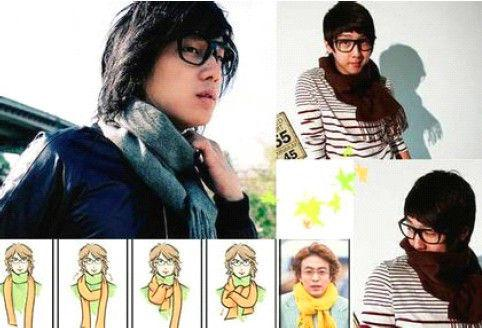NONE: (151, 31, 226, 128), (330, 30, 374, 76), (303, 261, 334, 296)
WRONG: (403, 213, 457, 267)
